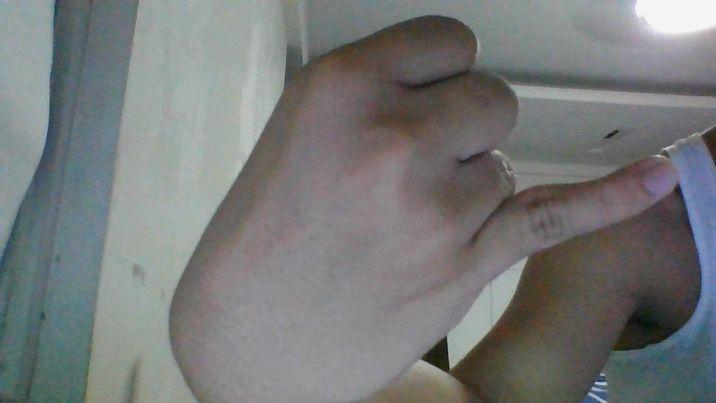j: (169, 15, 681, 403)
